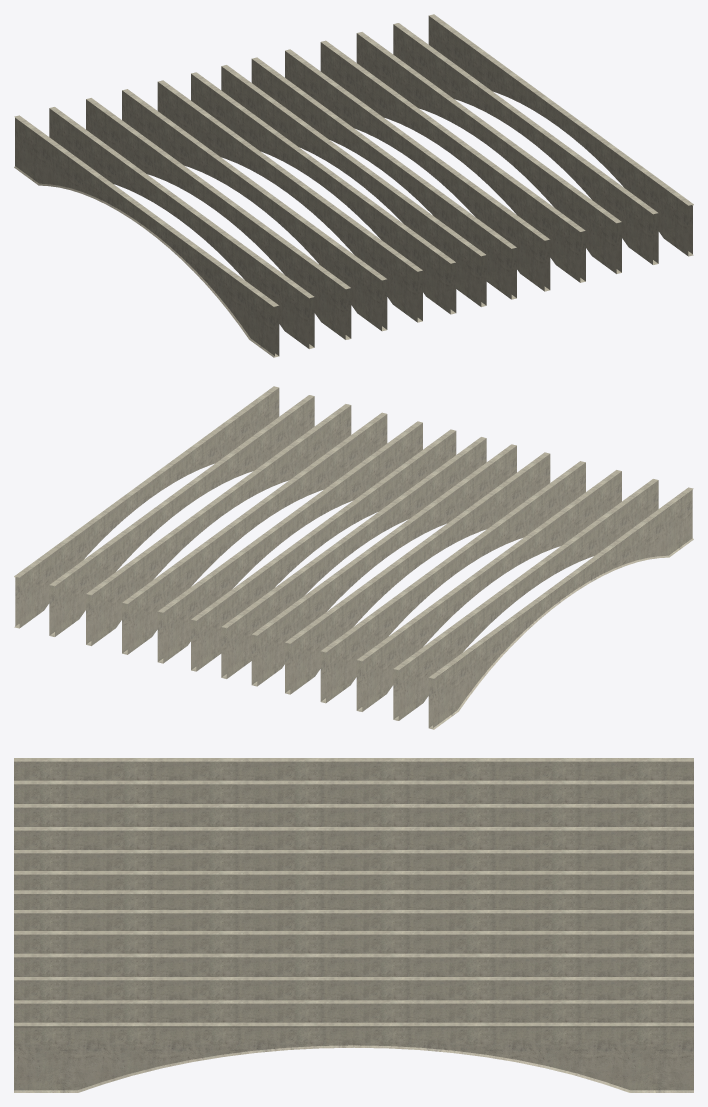
Rendered from BridgeBase6-6L-40M.FBX.
The picture shows the model from 3 angles, top to bottom: view 1: azimuth 30°, elevation 25°; view 2: azimuth 150°, elevation 25°; view 3: azimuth 270°, elevation 25°; orthographic projection. The views are drawn at different scales.
Parts seen in each view (by area): view 1: BridgeBase6-6L-40M; view 2: BridgeBase6-6L-40M; view 3: BridgeBase6-6L-40M.
Part boxes in pixels (<box>): BridgeBase6-6L-40M: <box>14,14,693,357</box>; BridgeBase6-6L-40M: <box>14,386,693,729</box>; BridgeBase6-6L-40M: <box>14,758,693,1092</box>.
Size of the model in its own units: 38 by 4.4 by 40.71.
